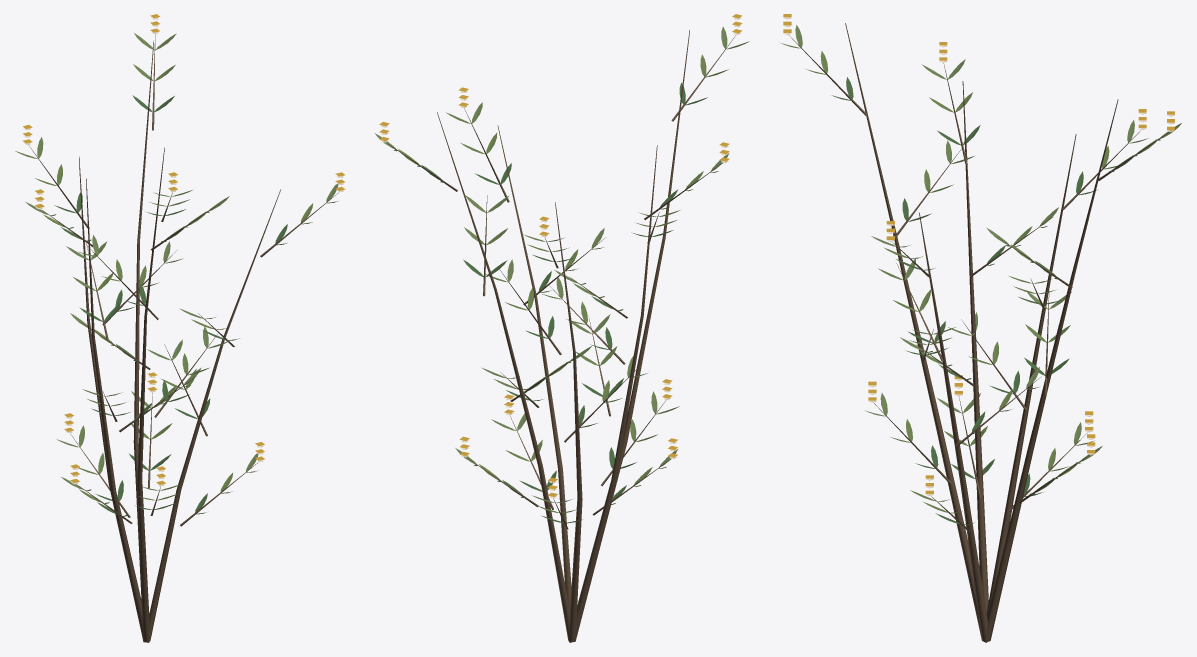
The model's file is BruyereFine_1_Low.fbx.
3 views of the same model, side by side, from view 1: azimuth 30°, elevation 25°; view 2: azimuth 150°, elevation 25°; view 3: azimuth 270°, elevation 25° (orthographic). The views are drawn at different scales.
Parts seen in each view (by area): view 1: BruyereFine_1_Low; view 2: BruyereFine_1_Low; view 3: BruyereFine_1_Low.
Part boxes in pixels (left/top/right/bottom): BruyereFine_1_Low: left=15, top=14, right=345, bottom=642; BruyereFine_1_Low: left=375, top=14, right=749, bottom=642; BruyereFine_1_Low: left=781, top=14, right=1181, bottom=642.
Size of the model in its own units: 105 by 192 by 118.
